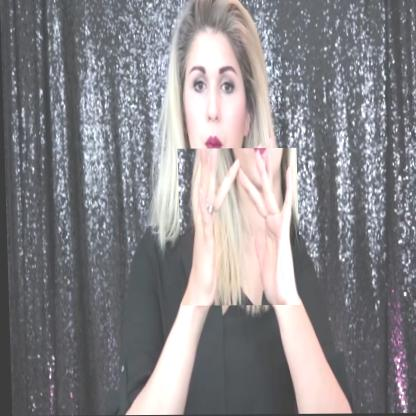Internet: (176, 148, 299, 306)
